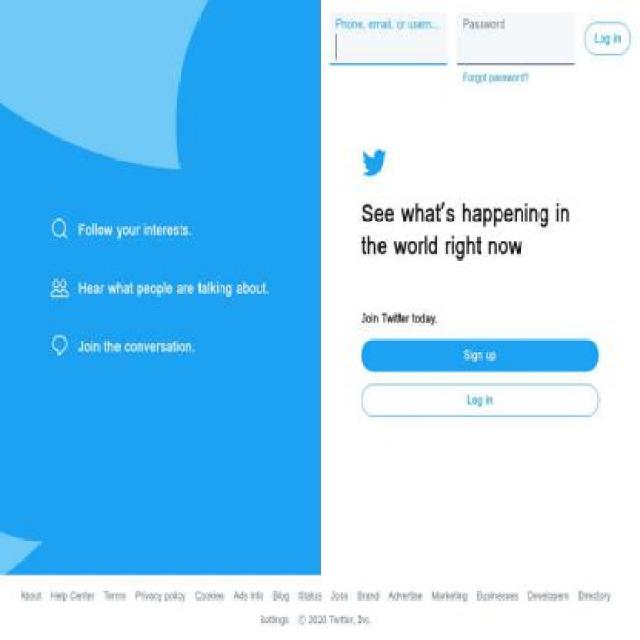button: (361, 340, 599, 372), (361, 385, 599, 417), (584, 22, 630, 55), (134, 587, 194, 604), (49, 587, 105, 604), (476, 587, 529, 604), (527, 587, 579, 604), (388, 587, 432, 604), (432, 587, 476, 604), (259, 610, 299, 628), (578, 587, 620, 604), (233, 587, 273, 604), (195, 587, 233, 604), (298, 587, 332, 604), (19, 587, 52, 604), (104, 587, 136, 604), (357, 587, 389, 604), (330, 587, 358, 604), (272, 587, 298, 604)
field: (329, 32, 448, 63), (457, 32, 575, 63)
